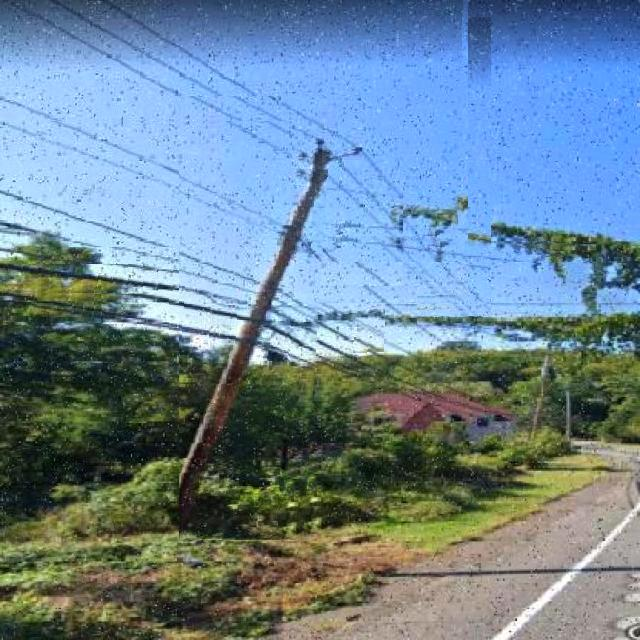pole: (179, 169, 328, 540)
wire: (4, 0, 458, 311), (50, 0, 468, 299), (98, 0, 491, 313), (0, 97, 403, 303), (0, 121, 292, 231), (0, 190, 261, 281), (0, 221, 264, 292), (0, 248, 266, 297), (0, 293, 253, 340), (0, 265, 261, 304), (290, 285, 417, 356), (313, 234, 547, 262), (281, 303, 384, 353), (277, 318, 354, 358), (285, 301, 332, 304)
